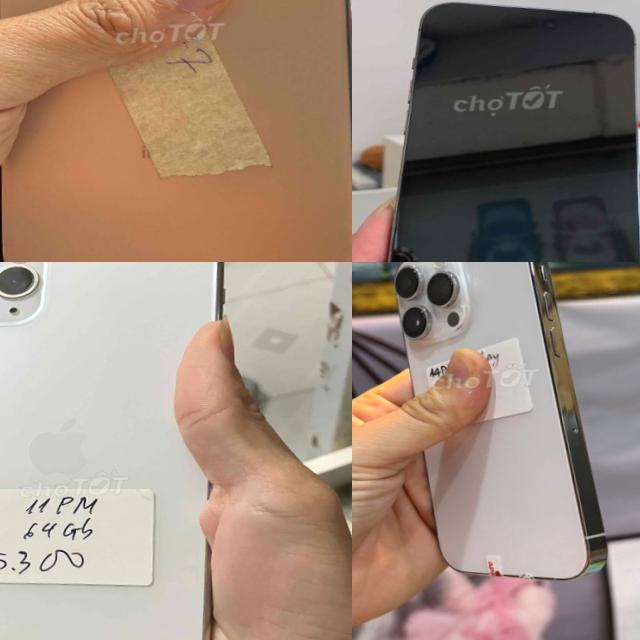gen_11: (0, 262, 247, 640)
gen_14: (384, 262, 624, 601), (361, 0, 640, 262)
gen_x_xs: (0, 0, 352, 262)
